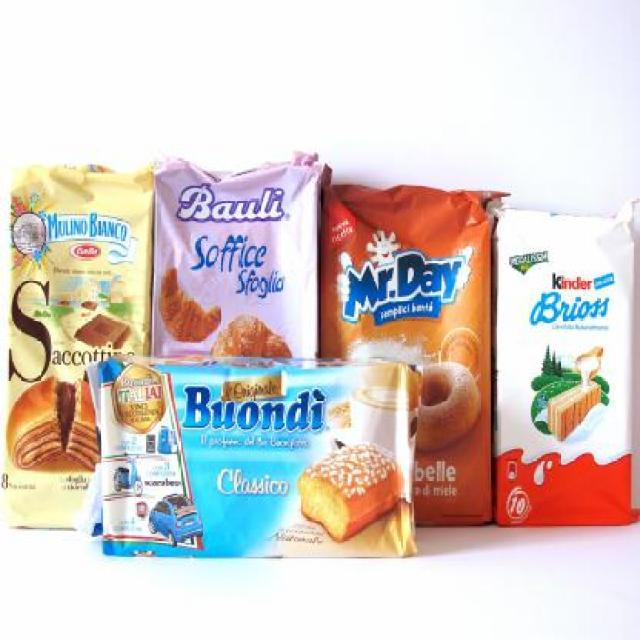Merendine: (149, 148, 322, 574), (90, 356, 424, 562), (322, 173, 490, 515), (5, 166, 154, 543), (492, 195, 638, 528)
Merendine packaged: (294, 438, 410, 540), (5, 372, 94, 470)
